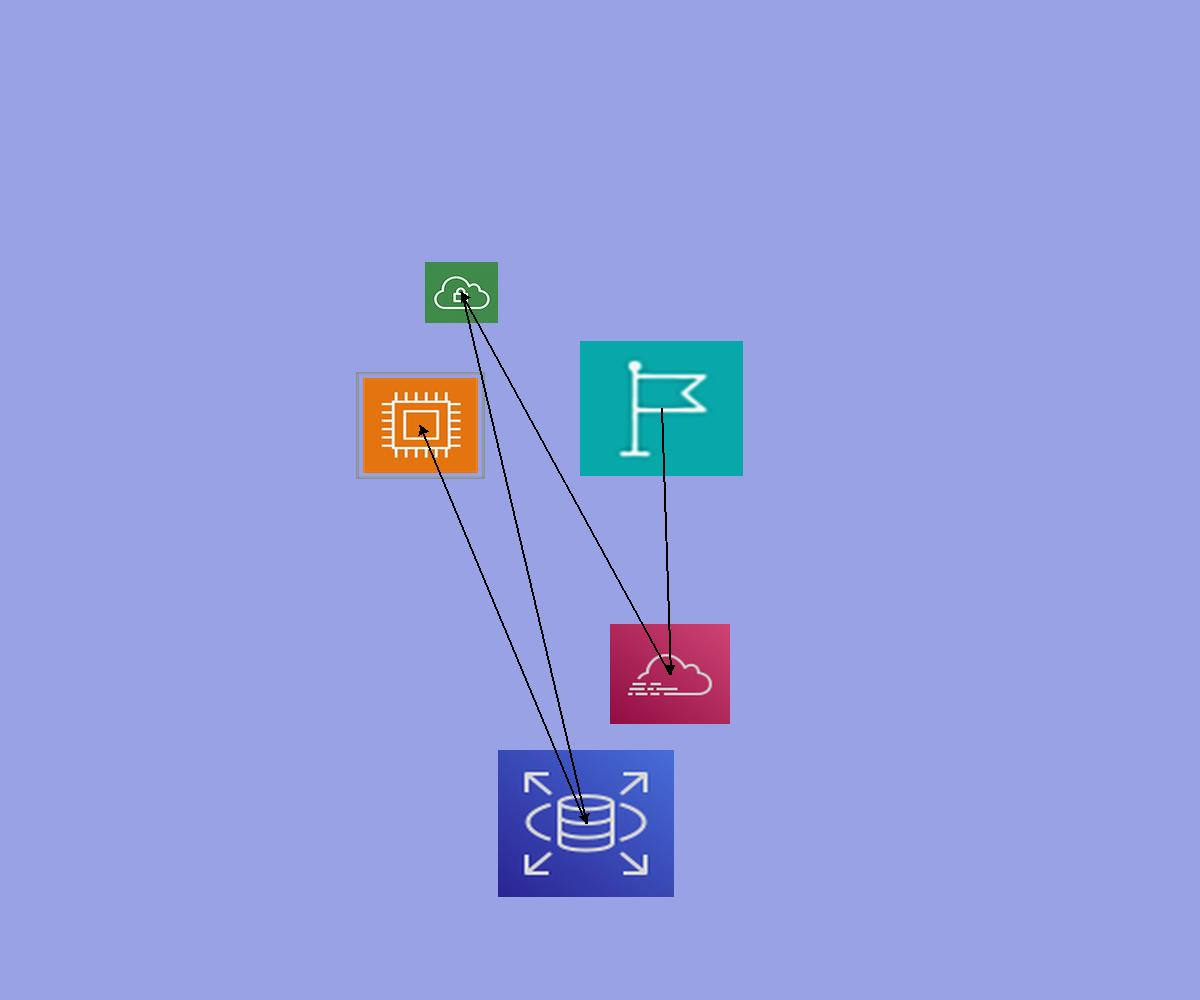AWS-Category_Compute: (356, 372, 485, 479)
AWS-CloudTrail: (610, 624, 730, 724)
AWS-Private_vpc: (425, 262, 498, 323)
AWS-RDS: (498, 750, 674, 897)
AWS-Region: (580, 341, 743, 476)
